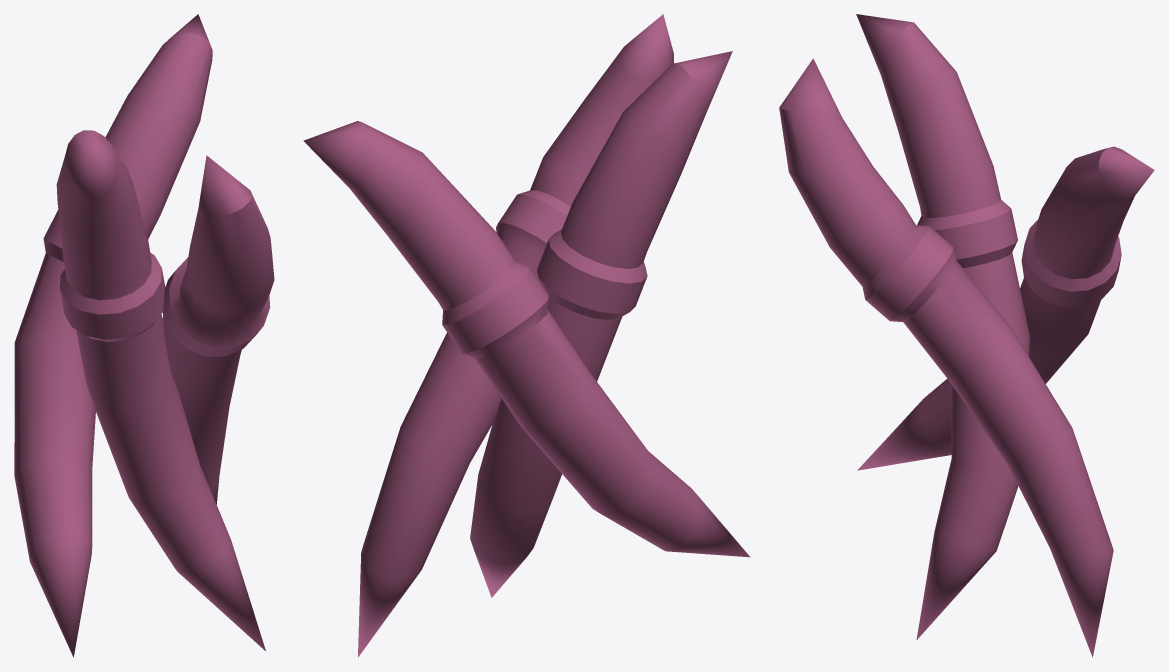
The model's file is Worms.fbx.
3 renders of one model, left to right at view 1: azimuth 30°, elevation 25°; view 2: azimuth 150°, elevation 25°; view 3: azimuth 270°, elevation 25°, orthographic. The views are drawn at different scales.
Visible parts, largest first — view 1: Cylinder.001; view 2: Cylinder.001; view 3: Cylinder.001.
Part boxes in pixels (left/top/right/bottom): Cylinder.001: left=14, top=14, right=274, bottom=657; Cylinder.001: left=303, top=14, right=750, bottom=657; Cylinder.001: left=779, top=14, right=1154, bottom=657.
Bounding box in the file's own units: 376 × 722 × 461.
